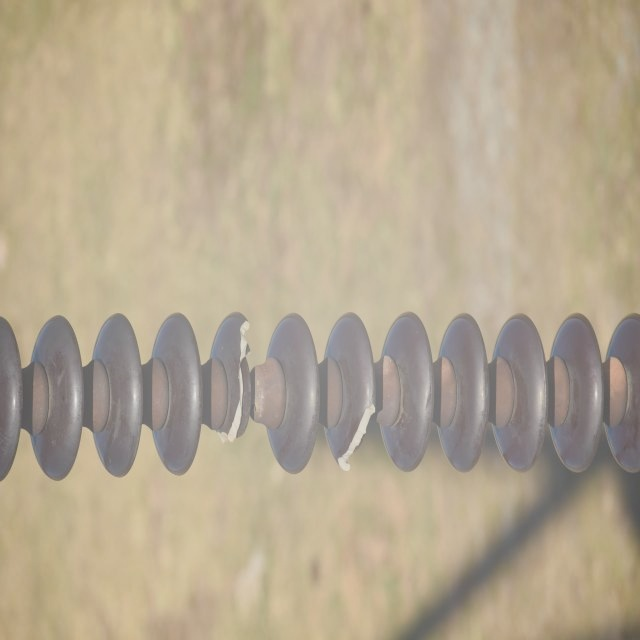broken: (215, 314, 252, 444), (334, 400, 380, 470)
insulator: (2, 309, 640, 480)
